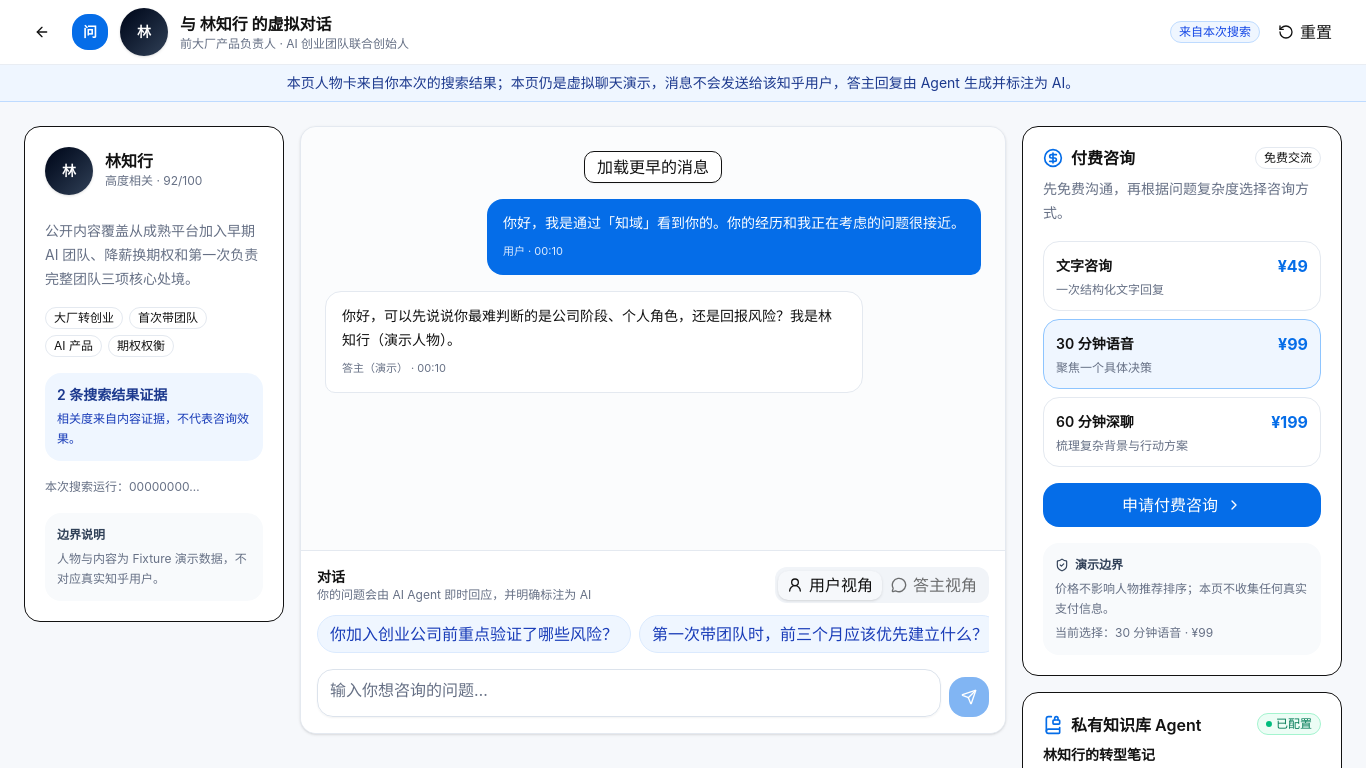
Test: 聊天页消息流 › 加载更多可以取回更早的消息
The width and height of the screenshot is (1366, 768).
Expected: the text "与 林知行 的虚拟对话" is shown, [180,14,332,34]
Expected: the text "你好，我是通过「知域」看到你的。你的经历和我正在考虑的问题很接近。" is shown, [503,211,965,235]
Click the button "加载更早的消息" at (653, 167), box [584,151,722,183]
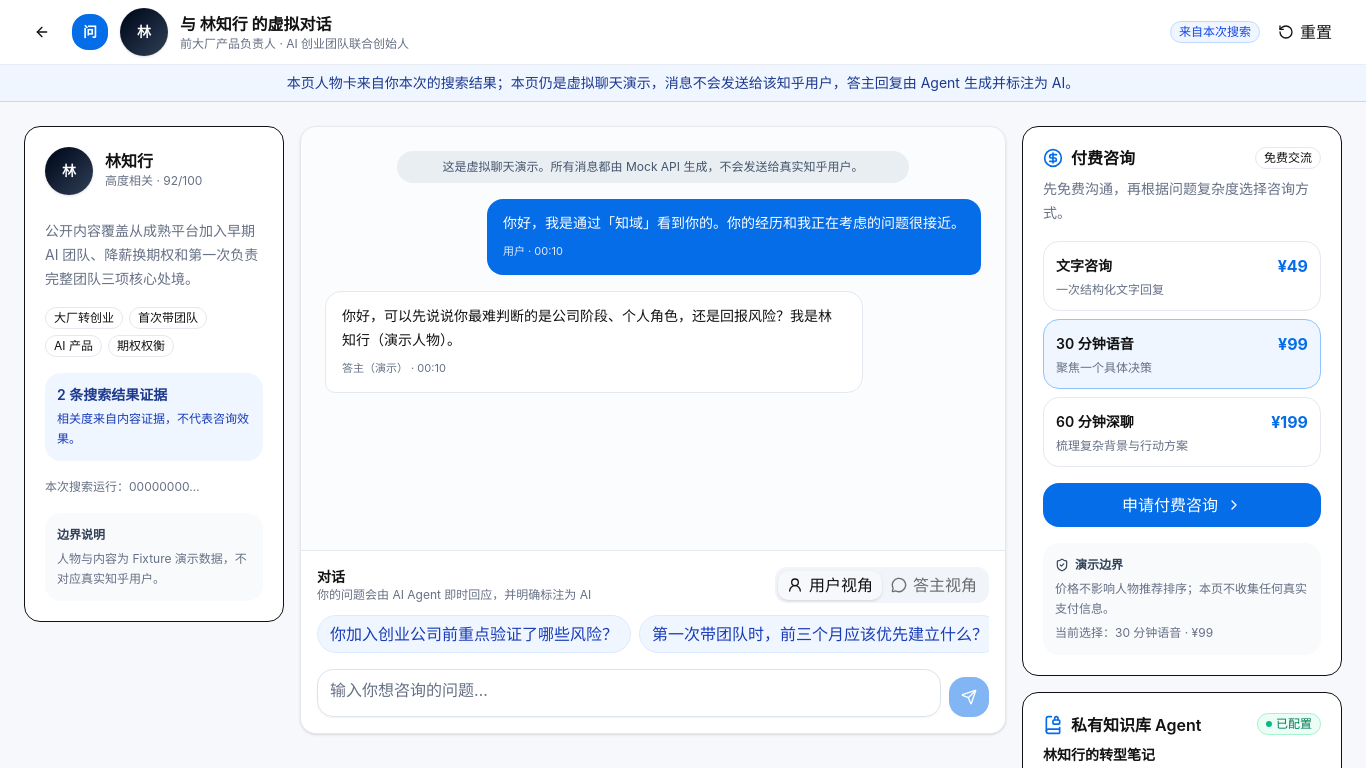
Now the text "这是虚拟聊天演示。所有消息都由 Mock API 生成，不会发送给真实知乎用户。" is shown, box [397,151,909,183]
